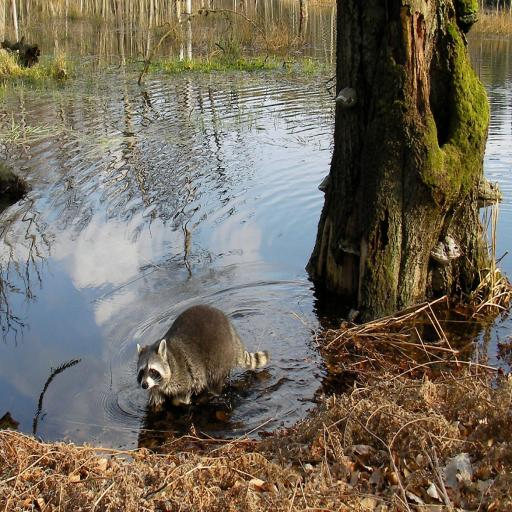raccoon: (138, 305, 270, 407)
